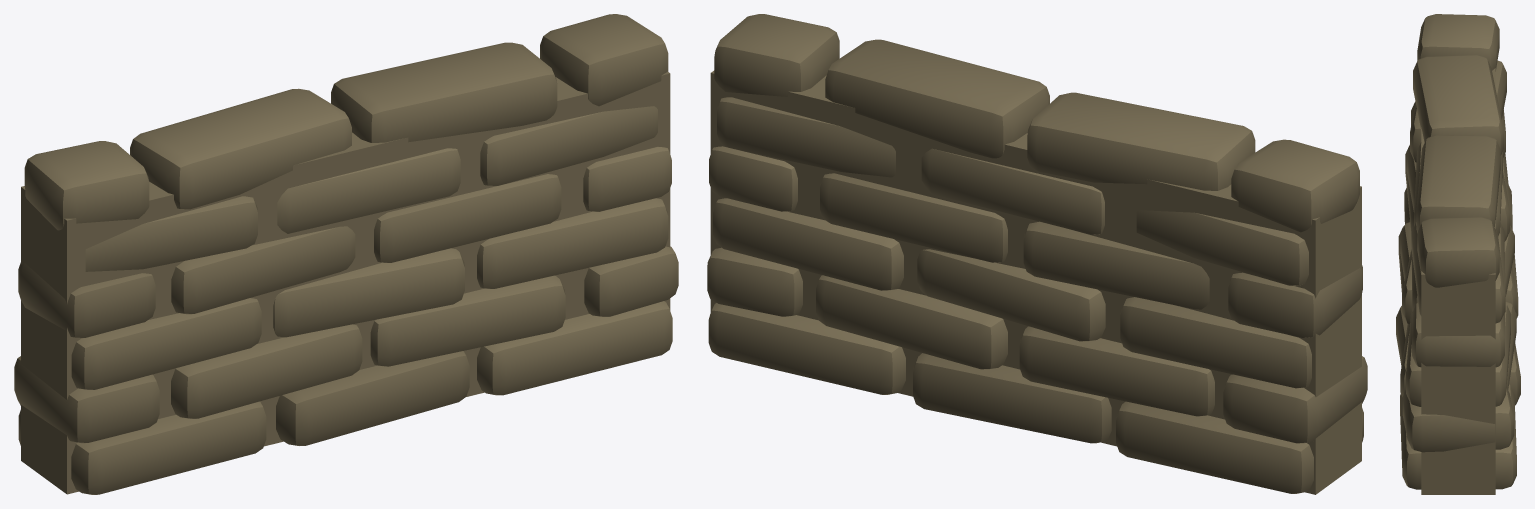
The model's file is sandbags-2m.glb.
3 views of the same model, side by side, from view 1: azimuth 30°, elevation 25°; view 2: azimuth 150°, elevation 25°; view 3: azimuth 270°, elevation 25° (orthographic). The views are drawn at different scales.
Parts seen in each view (by area): view 1: Piece_lod0; view 2: Piece_lod0; view 3: Piece_lod0.
Part boxes in pixels (bbox=[...]): Piece_lod0: bbox=[14, 14, 678, 494]; Piece_lod0: bbox=[707, 14, 1367, 494]; Piece_lod0: bbox=[1396, 14, 1520, 494].
Size of what is drawn, in the model's own units: 2 by 0.96 by 0.4359.
